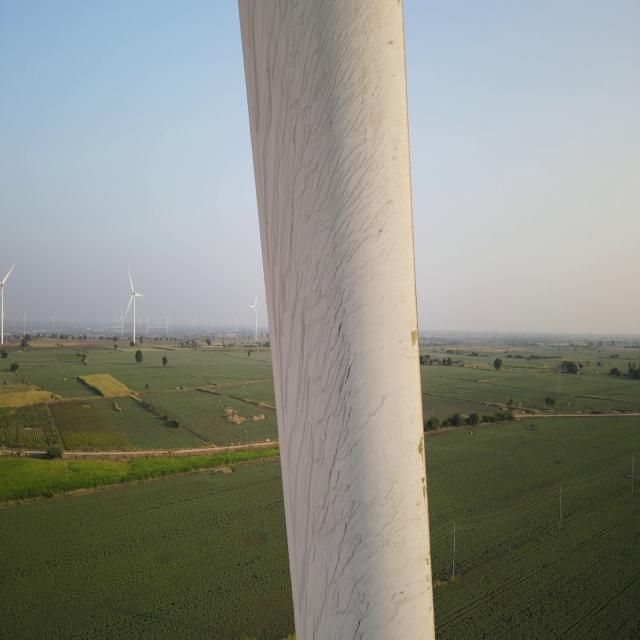Dirt: (239, 1, 417, 640)
